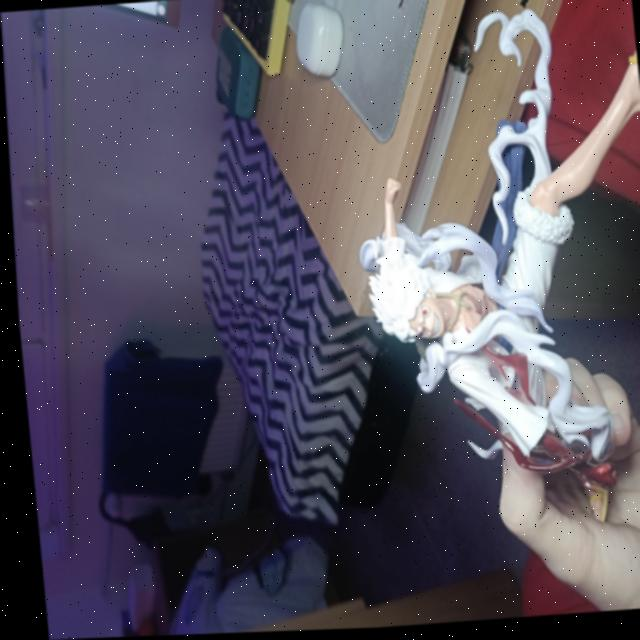luffy: (320, 0, 640, 492)
